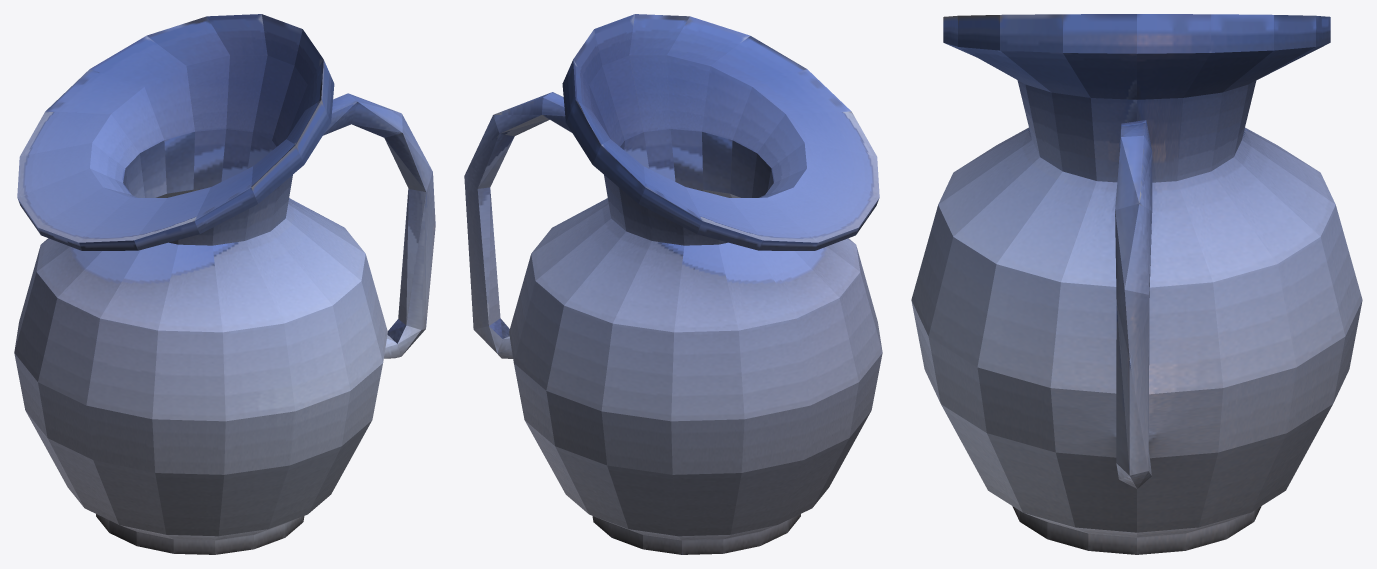
Rendered from milk01.fbx.
3 views of the same model, side by side, from view 1: azimuth 30°, elevation 25°; view 2: azimuth 150°, elevation 25°; view 3: azimuth 270°, elevation 25° (orthographic). The views are drawn at different scales.
Parts seen in each view (by area): view 1: milk01.001; view 2: milk01.001; view 3: milk01.001.
Boxes of the visible parts, x1,y1,x2,y2 form: milk01.001: [14, 14, 435, 554]; milk01.001: [464, 14, 882, 554]; milk01.001: [911, 14, 1362, 554].
Bounding box in the file's own units: 0.0863 × 0.0714 × 0.0955.
1 material, 1 textured.
